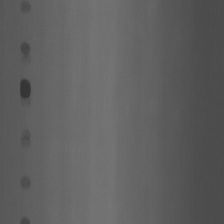oil_spot: (15, 0, 34, 21), (17, 77, 34, 100), (16, 169, 33, 191), (19, 32, 33, 57), (19, 126, 31, 148), (17, 209, 30, 224)
